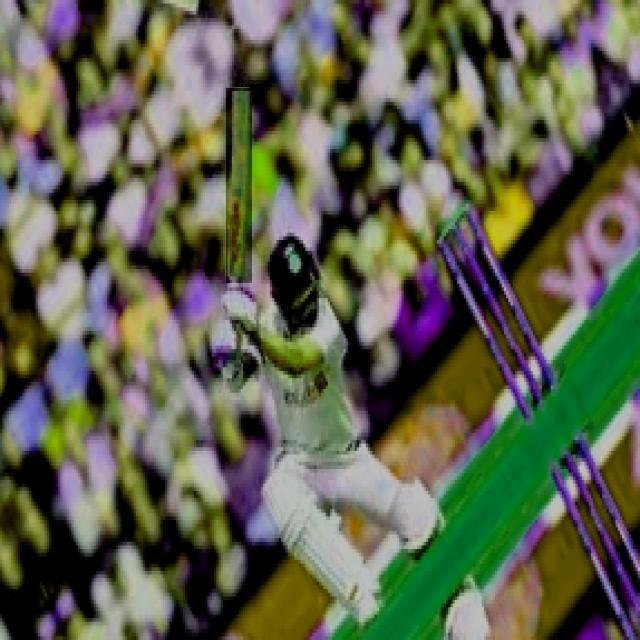bat: (223, 89, 259, 286)
toe: (225, 83, 257, 94)
